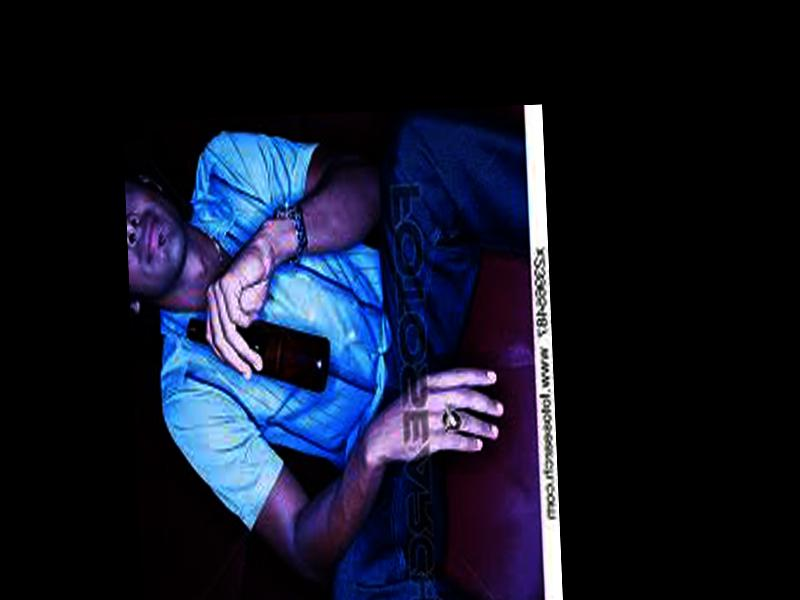Beer: (186, 312, 330, 399)
